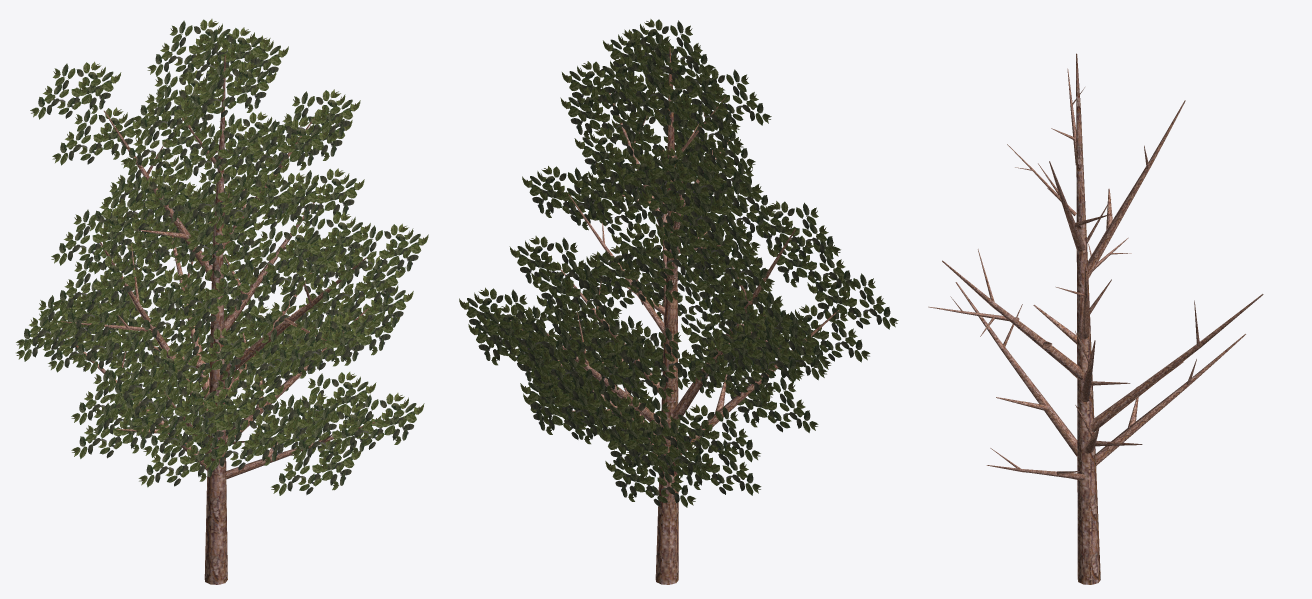
File: SmartTreesMiddle.obj
3 renders of one model, left to right at view 1: azimuth 30°, elevation 25°; view 2: azimuth 150°, elevation 25°; view 3: azimuth 270°, elevation 25°, orthographic.
Visible parts, largest first — view 1: SmartTreesMiddle-COM-trunk_1-2706-Vegetation_Bark_Ponderosa, SmartTreesMiddle-COM-Leaf_Bunch_1-2638-Leaves2, SmartTreesMiddle-COM-Leaf_Bunch_1-2610-Leaves2, SmartTreesMiddle-COM-Leaf_Bunch_1-2685-Leaves2, SmartTreesMiddle-COM-Leaf_Bunch_1-2680-Leaves2, SmartTreesMiddle-COM-Leaf_Bunch_1-2683-Leaves2, SmartTreesMiddle-COM-Leaf_Bunch_1-2621-Leaves2, SmartTreesMiddle-COM-Leaf_Bunch_1-2622-Leaves2, SmartTreesMiddle-COM-Leaf_Bunch_1-2623-Leaves2, SmartTreesMiddle-COM-Leaf_Bunch_1-2648-Leaves2, SmartTreesMiddle-COM-Leaf_Bunch_1-2649-Leaves2, SmartTreesMiddle-COM-Leaf_Bunch_1-2660-Leaves2 (+68 smaller); view 2: SmartTreesMiddle-COM-trunk_1-2706-Vegetation_Bark_Ponderosa, SmartTreesMiddle-COM-Leaf_Bunch_1-2610-Leaves2, SmartTreesMiddle-COM-Leaf_Bunch_1-2690-Leaves2, SmartTreesMiddle-COM-Leaf_Bunch_1-2645-Leaves2, SmartTreesMiddle-COM-Leaf_Bunch_1-2684-Leaves2, SmartTreesMiddle-COM-Leaf_Bunch_1-2661-Leaves2, SmartTreesMiddle-COM-Leaf_Bunch_1-2620-Leaves2, SmartTreesMiddle-COM-Leaf_Bunch_1-2619-Leaves2, SmartTreesMiddle-COM-Leaf_Bunch_1-2655-Leaves2, SmartTreesMiddle-COM-Leaf_Bunch_1-2641-Leaves2, SmartTreesMiddle-COM-Leaf_Bunch_1-2613-Leaves2, SmartTreesMiddle-COM-Leaf_Bunch_1-2631-Leaves2 (+55 smaller); view 3: SmartTreesMiddle-COM-trunk_1-2706-Vegetation_Bark_Ponderosa, SmartTreesMiddle-COM-trunk_4-2709-Vegetation_Bark_Ponderosa, SmartTreesMiddle-COM-trunk_4-2710-Vegetation_Bark_Ponderosa, SmartTreesMiddle-COM-trunk_4-2720-Vegetation_Bark_Ponderosa, SmartTreesMiddle-COM-trunk_4-2705-Vegetation_Bark_Ponderosa, SmartTreesMiddle-COM-trunk_4-2707-Vegetation_Bark_Ponderosa, SmartTreesMiddle-COM-trunk_4-2708-Vegetation_Bark_Ponderosa, SmartTreesMiddle-COM-trunk_4-2711-Vegetation_Bark_Ponderosa, SmartTreesMiddle-COM-trunk_4-2718-Vegetation_Bark_Ponderosa, SmartTreesMiddle-COM-trunk_4-2715-Vegetation_Bark_Ponderosa.
Part boxes in pixels (bbox=[...]): SmartTreesMiddle-COM-trunk_1-2706-Vegetation_Bark_Ponderosa: bbox=[204, 55, 227, 584]; SmartTreesMiddle-COM-Leaf_Bunch_1-2638-Leaves2: bbox=[238, 118, 329, 175]; SmartTreesMiddle-COM-Leaf_Bunch_1-2610-Leaves2: bbox=[30, 61, 121, 119]; SmartTreesMiddle-COM-Leaf_Bunch_1-2685-Leaves2: bbox=[185, 61, 276, 118]; SmartTreesMiddle-COM-Leaf_Bunch_1-2680-Leaves2: bbox=[203, 413, 293, 471]; SmartTreesMiddle-COM-Leaf_Bunch_1-2683-Leaves2: bbox=[337, 223, 428, 281]; SmartTreesMiddle-COM-Leaf_Bunch_1-2621-Leaves2: bbox=[333, 393, 424, 450]; SmartTreesMiddle-COM-Leaf_Bunch_1-2622-Leaves2: bbox=[237, 224, 328, 282]; SmartTreesMiddle-COM-Leaf_Bunch_1-2623-Leaves2: bbox=[283, 313, 374, 371]; SmartTreesMiddle-COM-Leaf_Bunch_1-2648-Leaves2: bbox=[133, 381, 224, 438]; SmartTreesMiddle-COM-Leaf_Bunch_1-2649-Leaves2: bbox=[208, 171, 298, 229]; SmartTreesMiddle-COM-Leaf_Bunch_1-2660-Leaves2: bbox=[52, 255, 142, 312]; SmartTreesMiddle-COM-trunk_1-2706-Vegetation_Bark_Ponderosa: bbox=[655, 47, 678, 584]; SmartTreesMiddle-COM-Leaf_Bunch_1-2610-Leaves2: bbox=[645, 147, 735, 205]; SmartTreesMiddle-COM-Leaf_Bunch_1-2690-Leaves2: bbox=[594, 56, 685, 113]; SmartTreesMiddle-COM-Leaf_Bunch_1-2645-Leaves2: bbox=[619, 419, 709, 476]; SmartTreesMiddle-COM-Leaf_Bunch_1-2684-Leaves2: bbox=[713, 323, 804, 380]; SmartTreesMiddle-COM-Leaf_Bunch_1-2661-Leaves2: bbox=[480, 304, 570, 361]; SmartTreesMiddle-COM-Leaf_Bunch_1-2620-Leaves2: bbox=[531, 262, 621, 319]; SmartTreesMiddle-COM-Leaf_Bunch_1-2619-Leaves2: bbox=[611, 222, 702, 279]; SmartTreesMiddle-COM-Leaf_Bunch_1-2655-Leaves2: bbox=[583, 342, 674, 399]; SmartTreesMiddle-COM-Leaf_Bunch_1-2641-Leaves2: bbox=[670, 404, 760, 462]; SmartTreesMiddle-COM-Leaf_Bunch_1-2613-Leaves2: bbox=[755, 201, 840, 258]; SmartTreesMiddle-COM-Leaf_Bunch_1-2631-Leaves2: bbox=[520, 376, 609, 429]; SmartTreesMiddle-COM-trunk_1-2706-Vegetation_Bark_Ponderosa: bbox=[1076, 53, 1100, 584]; SmartTreesMiddle-COM-trunk_4-2709-Vegetation_Bark_Ponderosa: bbox=[1090, 294, 1263, 431]; SmartTreesMiddle-COM-trunk_4-2710-Vegetation_Bark_Ponderosa: bbox=[955, 282, 1077, 456]; SmartTreesMiddle-COM-trunk_4-2720-Vegetation_Bark_Ponderosa: bbox=[1086, 100, 1185, 280]; SmartTreesMiddle-COM-trunk_4-2705-Vegetation_Bark_Ponderosa: bbox=[942, 249, 1083, 380]; SmartTreesMiddle-COM-trunk_4-2707-Vegetation_Bark_Ponderosa: bbox=[1095, 334, 1245, 465]; SmartTreesMiddle-COM-trunk_4-2708-Vegetation_Bark_Ponderosa: bbox=[1038, 161, 1109, 251]; SmartTreesMiddle-COM-trunk_4-2711-Vegetation_Bark_Ponderosa: bbox=[1075, 331, 1130, 401]; SmartTreesMiddle-COM-trunk_4-2718-Vegetation_Bark_Ponderosa: bbox=[1056, 269, 1111, 339]; SmartTreesMiddle-COM-trunk_4-2715-Vegetation_Bark_Ponderosa: bbox=[986, 448, 1085, 480].
Bounding box in the file's own units: 3.16 × 4.37 × 2.63.
